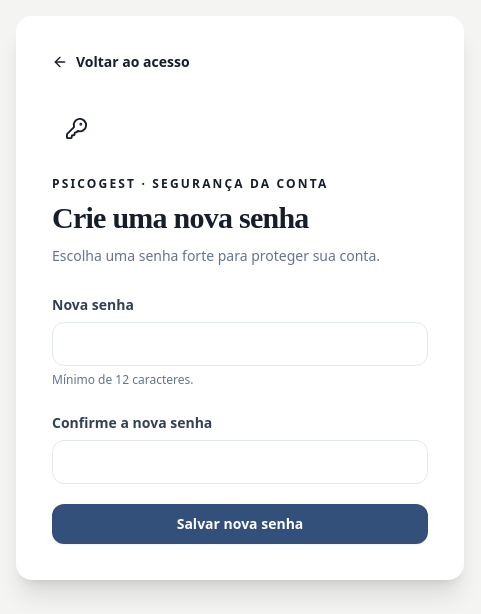
Test: AuthActionPage › submits only the one-time token and new password to reset
Step 1. Type "synthetic secure pass 2026" into the password field labelled "Nova senha Mínimo de 12 caracteres." → point(240, 344), box [52,322,428,366]
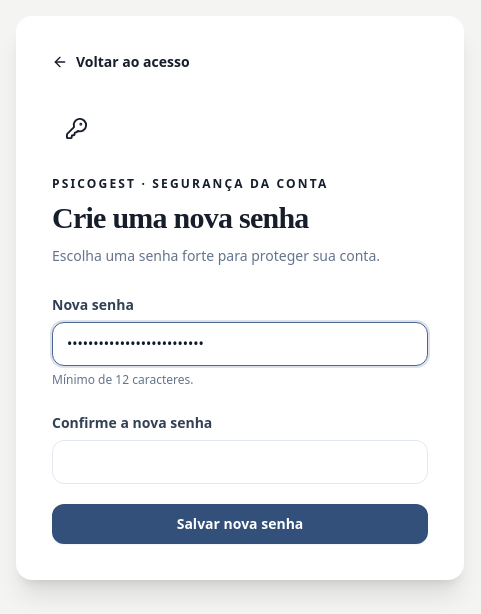
Step 2. Type "synthetic secure pass 2026" into the password field labelled "Confirme a nova senha" → point(240, 462), box [52,440,428,484]
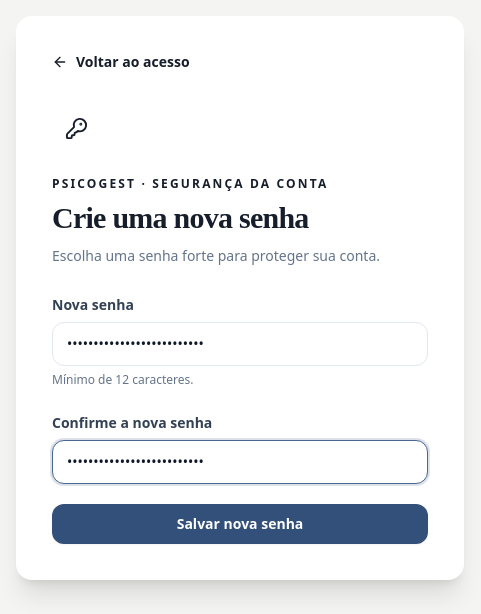
Step 3. Click the button "Salvar nova senha" → point(240, 524), box [52,504,428,544]
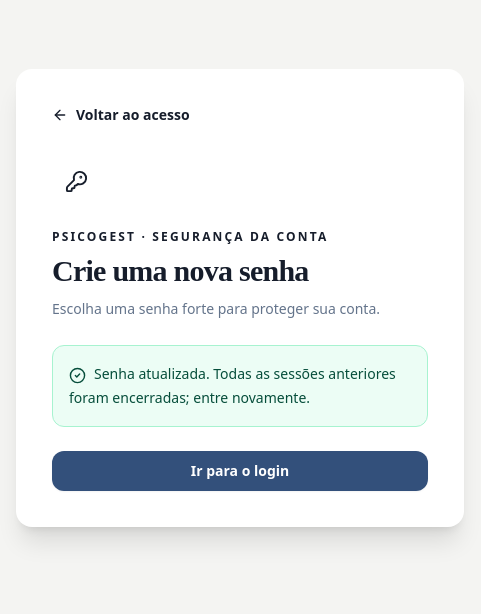
Now the text "Senha atualizada" is shown, box [69,364,396,407]
